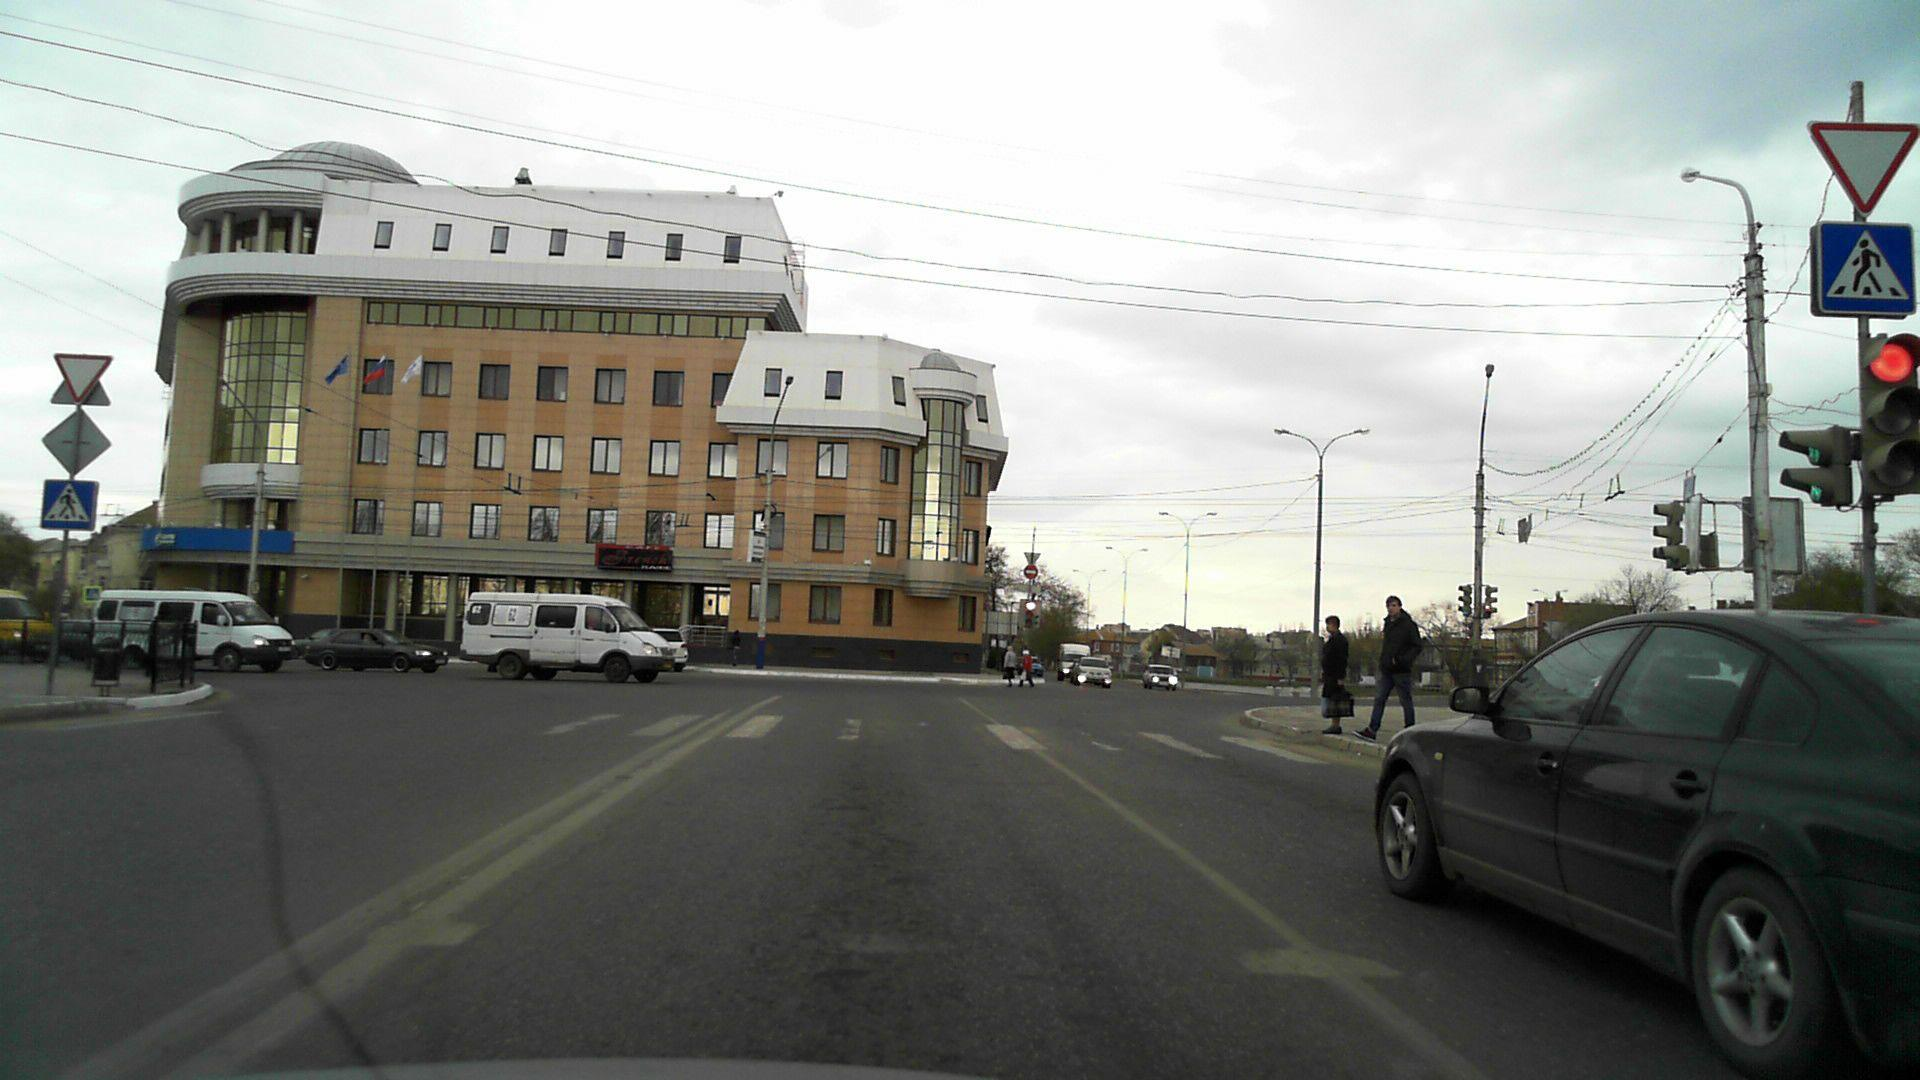2_4: (1803, 115, 1920, 214), (53, 347, 115, 404)
3_1: (1025, 564, 1038, 579)
5_19_1: (1808, 222, 1919, 311)
5_19_2: (44, 480, 98, 529)
